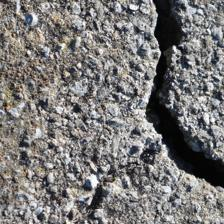Crack: (133, 27, 224, 211), (0, 44, 171, 124)
